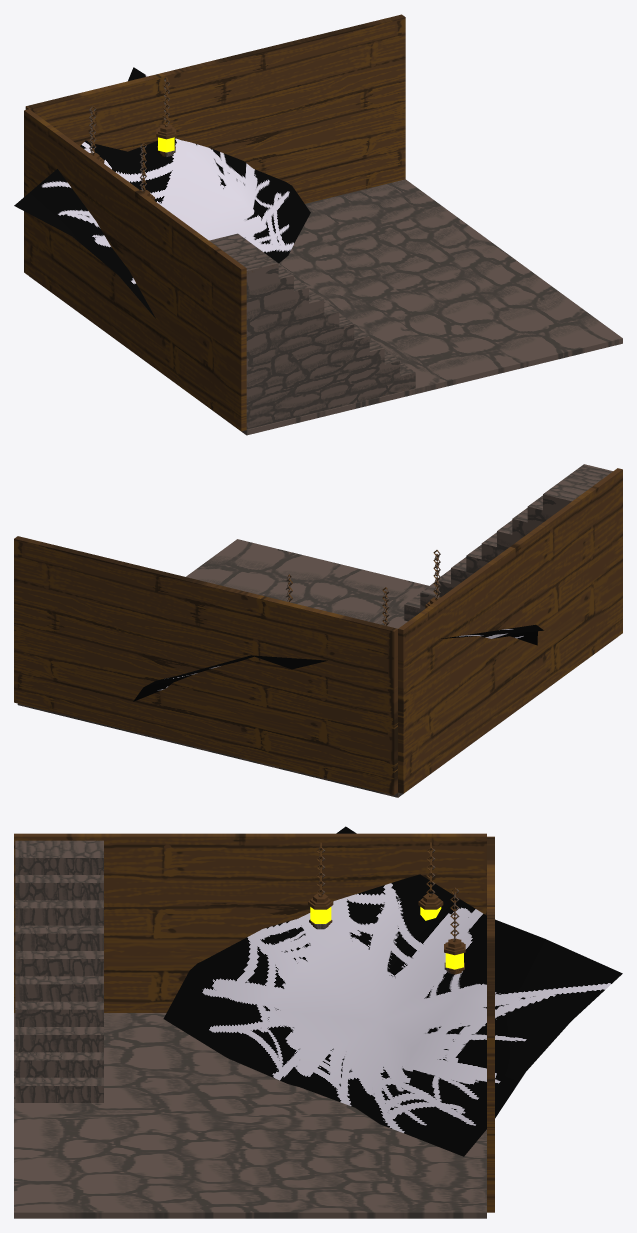
Rendered from Porao.fbx.
3 views of the same model, one above another, from view 1: azimuth 30°, elevation 25°; view 2: azimuth 150°, elevation 25°; view 3: azimuth 270°, elevation 25° (orthographic). The views are drawn at different scales.
Visible parts, largest first — view 1: porao_chao, porao_parede_2, porao_parede_1, escadas, TEIA, lamparina_porao_3; view 2: porao_parede_2, porao_parede_1, porao_chao, escadas, TEIA; view 3: TEIA, porao_chao, porao_parede_1, escadas, porao_parede_2, lamparina_porao_1, lamparina_porao_3, lamparina_porao_2.
Part boxes in pixels (x1,y1,x2,y2): porao_chao: (29,179,622,435); porao_parede_2: (25,14,405,203); porao_parede_1: (24,109,246,431); escadas: (209,233,415,429); TEIA: (14,67,310,318); lamparina_porao_3: (156,77,176,156); porao_parede_2: (14,536,397,795); porao_parede_1: (398,468,622,793); porao_chao: (17,539,607,797); escadas: (404,464,612,621); TEIA: (133,624,543,701); TEIA: (163,826,622,1156); porao_chao: (14,1013,486,1218); porao_parede_1: (14,833,486,1012); escadas: (15,840,103,1102); porao_parede_2: (487,836,494,1212); lamparina_porao_1: (308,842,333,929); lamparina_porao_3: (444,887,465,974); lamparina_porao_2: (418,842,443,920).
Bounding box in the file's own units: 605 × 237 × 643.
3 materials, 2 textured.
